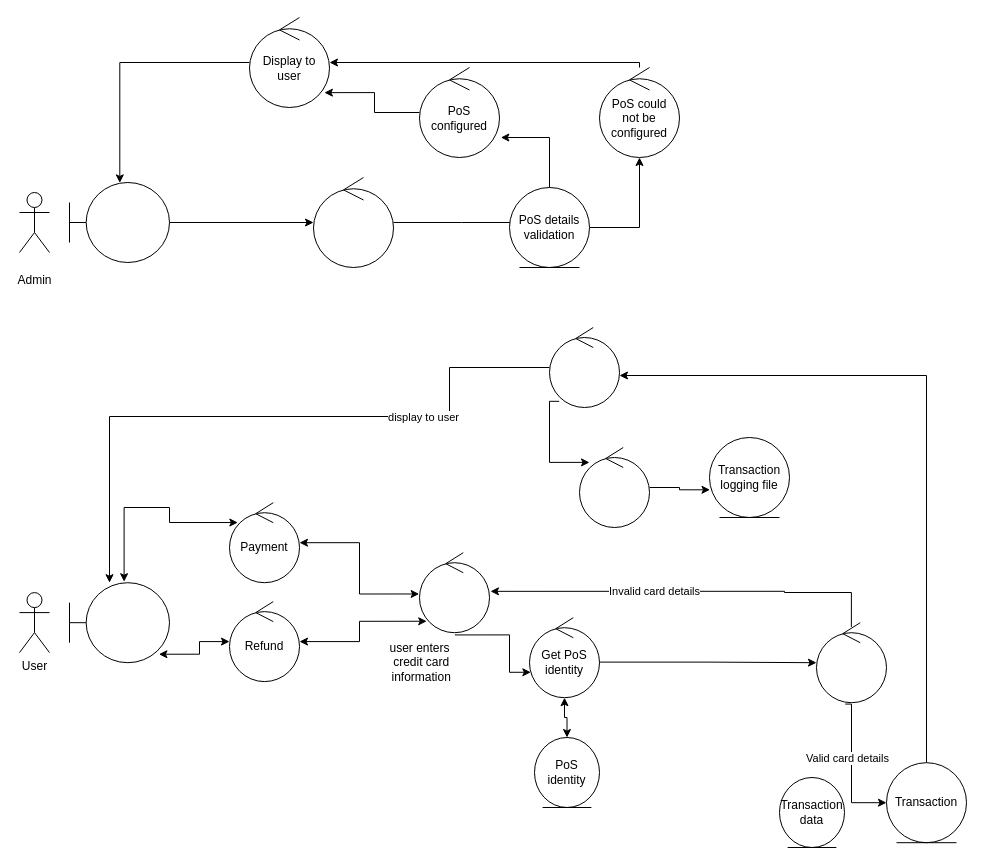
The diagram is 984 pixels wide and 865 high, and some of its shapes have lost their labels. Here are the shapes that lost their labels. From the top down, the centre of each, then its label:
point 119,222: Configure PoS
point 353,222: PoS details controller
point 584,367: transaction status message
point 614,487: log transaction
point 454,592: Add user details
point 119,622: Pos Terminal
point 851,662: card details validation
